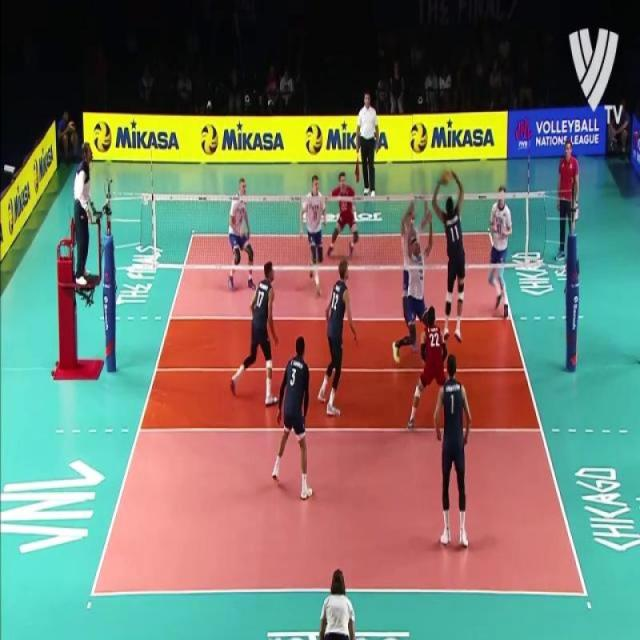volleyball: (407, 122, 430, 154), (304, 125, 323, 156), (94, 120, 110, 153), (201, 127, 218, 156), (31, 162, 41, 195), (439, 167, 454, 188), (8, 198, 15, 230), (67, 120, 75, 137)
